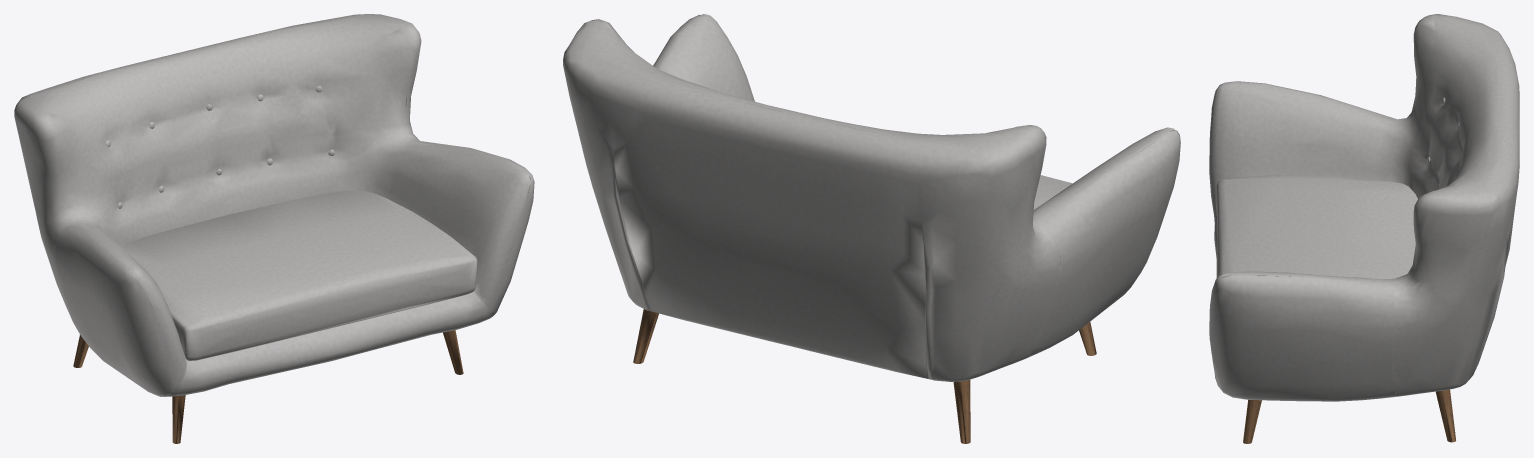
The picture shows the model from 3 angles, left to right: view 1: azimuth 30°, elevation 25°; view 2: azimuth 150°, elevation 25°; view 3: azimuth 270°, elevation 25°; orthographic projection. The views are drawn at different scales.
Parts seen in each view (by area): view 1: visual_RootNode; view 2: visual_RootNode; view 3: visual_RootNode.
Part boxes in pixels (x1,y1,x2,y2): visual_RootNode: (14, 14, 534, 443); visual_RootNode: (563, 14, 1180, 443); visual_RootNode: (1209, 14, 1519, 443).
Size of the model in its own units: 1.42 by 0.9203 by 0.8785.
1 material, 1 textured.
